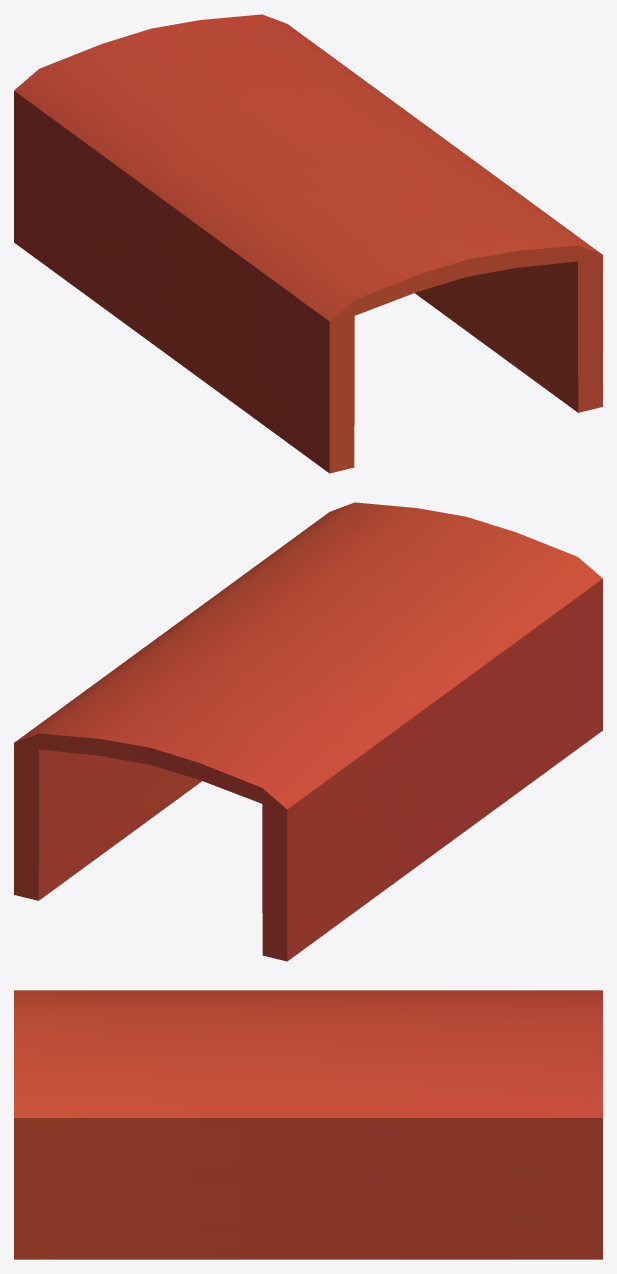
Rendered from Tunel.fbx.
The picture shows the model from 3 angles, top to bottom: view 1: azimuth 30°, elevation 25°; view 2: azimuth 150°, elevation 25°; view 3: azimuth 270°, elevation 25°; orthographic projection. The views are drawn at different scales.
Visible parts, largest first — view 1: Tunel; view 2: Tunel; view 3: Tunel.
Part boxes in pixels (x1,y1,x2,y2): Tunel: [14, 14, 602, 473]; Tunel: [14, 502, 602, 961]; Tunel: [14, 990, 602, 1259].
Bounding box in the file's own units: 2079 × 1312 × 4159.
1 material, 1 textured.
